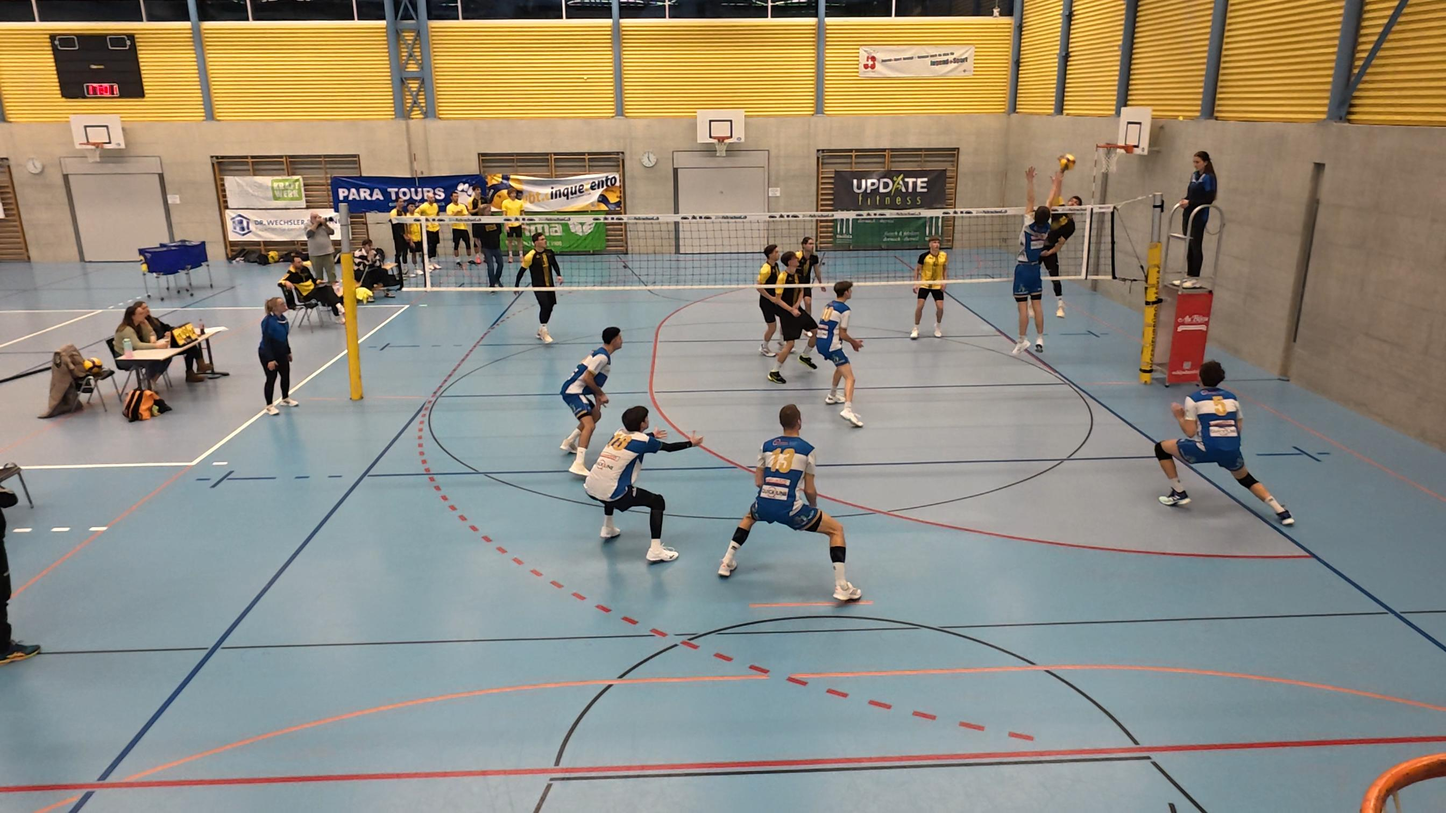attacco: (1030, 151, 1084, 321)
muro: (1011, 164, 1063, 359)
